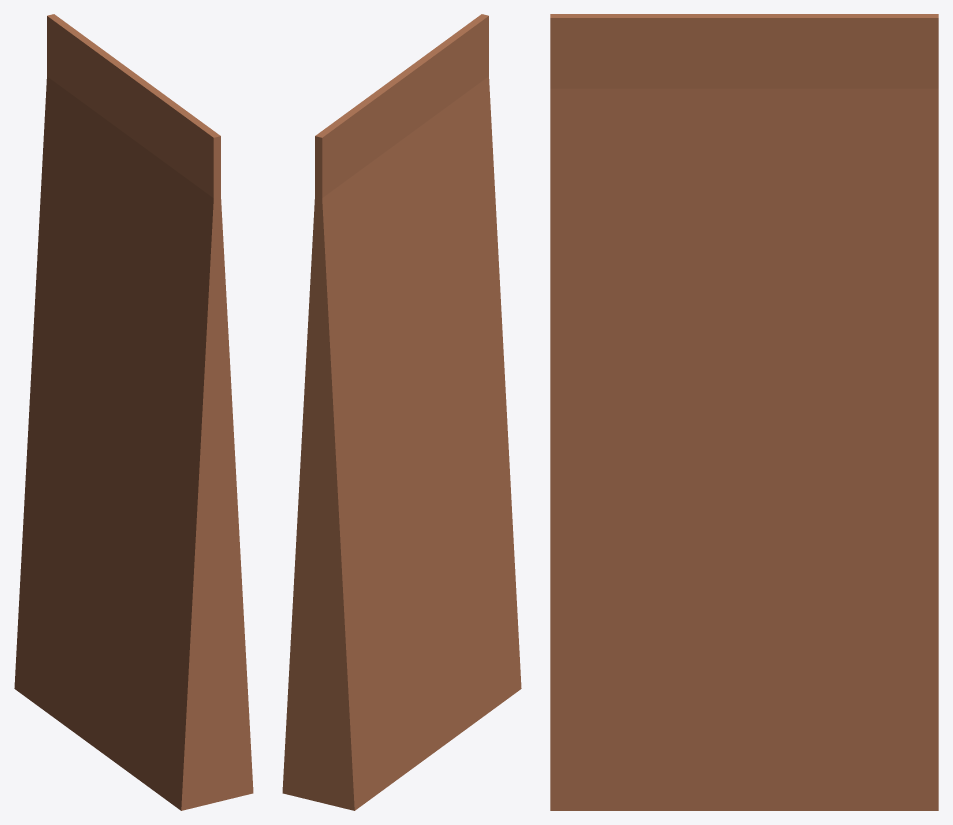
The model's file is Food.glb.
The picture shows the model from 3 angles, left to right: view 1: azimuth 30°, elevation 25°; view 2: azimuth 150°, elevation 25°; view 3: azimuth 270°, elevation 25°; orthographic projection. The views are drawn at different scales.
Visible parts, largest first — view 1: Cube; view 2: Cube; view 3: Cube.
Part boxes in pixels (left/top/right/bottom): Cube: left=14, top=14, right=253, bottom=810; Cube: left=282, top=14, right=521, bottom=810; Cube: left=550, top=14, right=938, bottom=810.
Size of the model in its own units: 0.5 by 4.4 by 2.
Materials: 1 (1 with a texture image).
